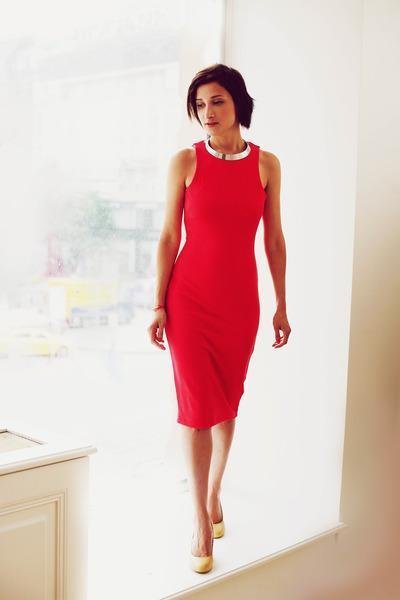dress: (166, 141, 267, 429)
shoe: (196, 516, 224, 573)
